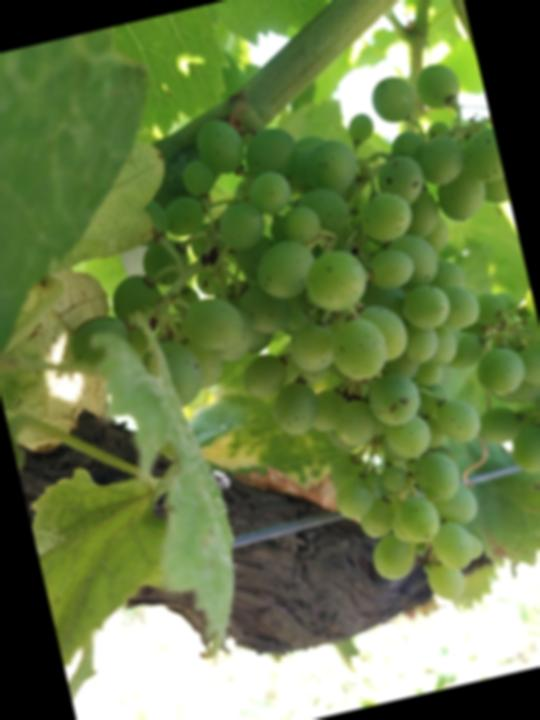grape: (17, 54, 540, 677)
